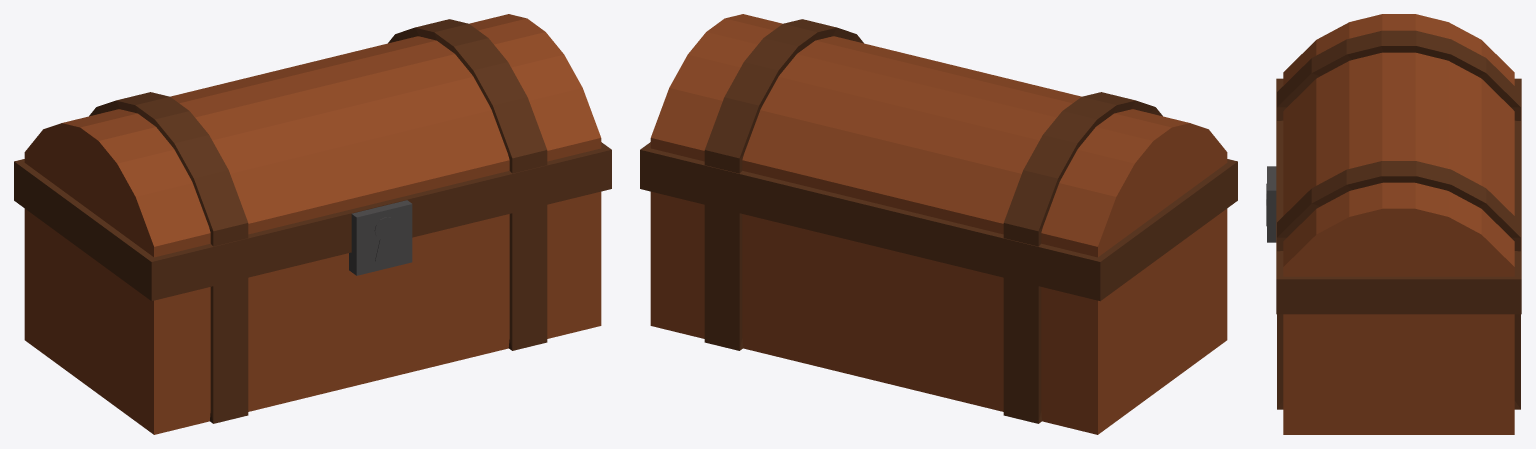
File: chest.fbx
The picture shows the model from 3 angles, left to right: view 1: azimuth 30°, elevation 25°; view 2: azimuth 150°, elevation 25°; view 3: azimuth 270°, elevation 25°; orthographic projection. The views are drawn at different scales.
Visible parts, largest first — view 1: Cube, Cube.001, Cube.002, Cube.003, Cylinder; view 2: Cube, Cube.002, Cube.001; view 3: Cube, Cube.001, Cube.002, Cube.003.
Boxes of the visible parts, left/top/right/bottom form: Cube: left=24, top=14, right=601, bottom=434; Cube.001: left=89, top=19, right=547, bottom=423; Cube.002: left=14, top=142, right=611, bottom=301; Cube.003: left=349, top=200, right=412, bottom=275; Cylinder: left=374, top=217, right=396, bottom=261; Cube: left=650, top=14, right=1227, bottom=434; Cube.002: left=640, top=142, right=1237, bottom=301; Cube.001: left=704, top=19, right=1162, bottom=423; Cube: left=1283, top=14, right=1514, bottom=434; Cube.001: left=1277, top=30, right=1520, bottom=409; Cube.002: left=1276, top=78, right=1521, bottom=314; Cube.003: left=1267, top=166, right=1276, bottom=242.
Bounding box in the file's own units: 411 × 223 × 221.
